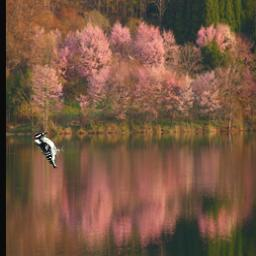Woodpecker: (33, 131, 66, 168)
